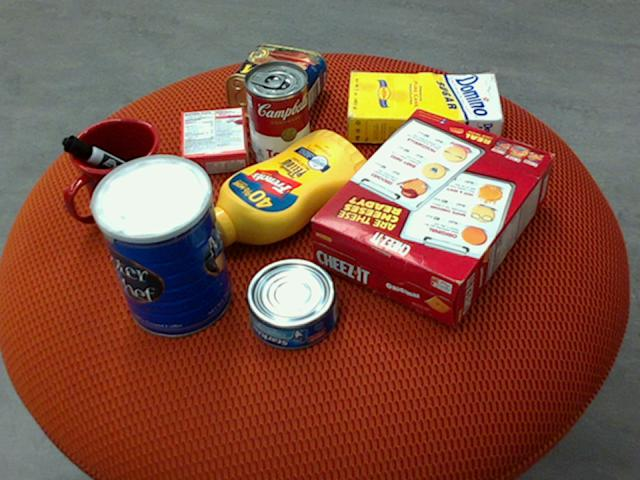cracker_box: (310, 107, 556, 325)
gelatin_box: (179, 106, 247, 177)
large_marker: (61, 135, 164, 196)
master_chef_can: (87, 155, 232, 338)
mug: (66, 117, 167, 226)
mustard_bottle: (193, 129, 372, 246)
potted_meat_can: (226, 44, 327, 125)
sugar_box: (347, 72, 504, 143)
tomato_soup_can: (244, 59, 310, 170)
tuna_fish_can: (246, 259, 339, 350)
